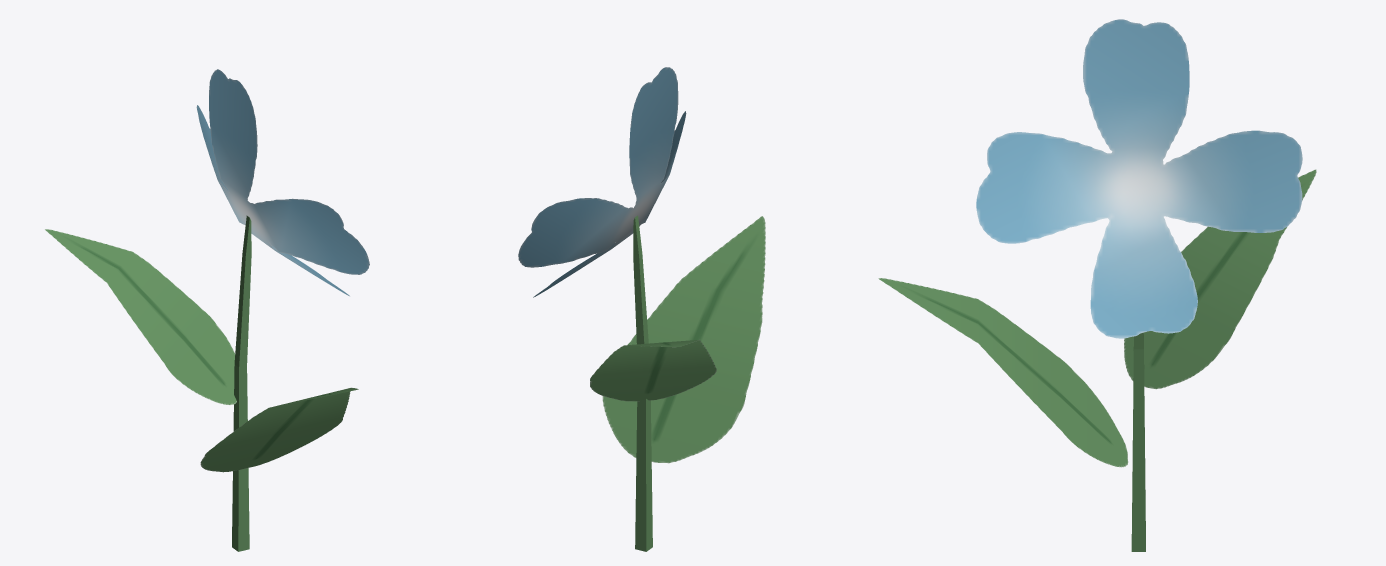
Rendered from Flower_01.fbx.
3 views of the same model, side by side, from view 1: azimuth 30°, elevation 25°; view 2: azimuth 150°, elevation 25°; view 3: azimuth 270°, elevation 25° (orthographic). The views are drawn at different scales.
Visible parts, largest first — view 1: Cube.001; view 2: Cube.001; view 3: Cube.001.
Part boxes in pixels (x1,y1,x2,y2): Cube.001: [45, 69, 369, 551]; Cube.001: [518, 67, 765, 551]; Cube.001: [878, 19, 1316, 551].
Size of the model in its own units: 16.25 by 27.99 by 24.05.
1 material, 1 textured.
